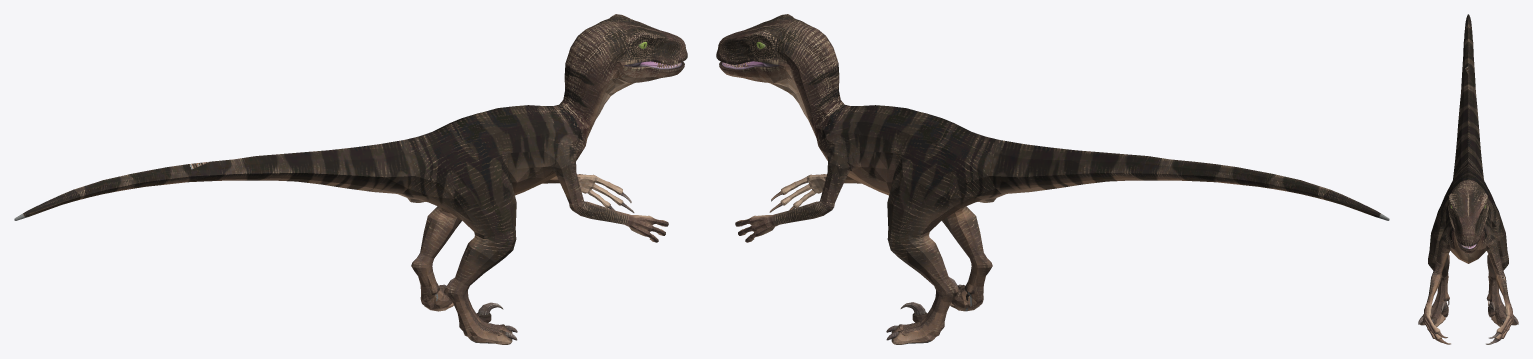
Rendered from Velo3d.gltf.
3 views of the same model, side by side, from view 1: azimuth 30°, elevation 25°; view 2: azimuth 150°, elevation 25°; view 3: azimuth 270°, elevation 25° (orthographic). The views are drawn at different scales.
Size of the model in its own units: 23.14 by 8.66 by 4.23.
Materials: 3 (3 with a texture image).
